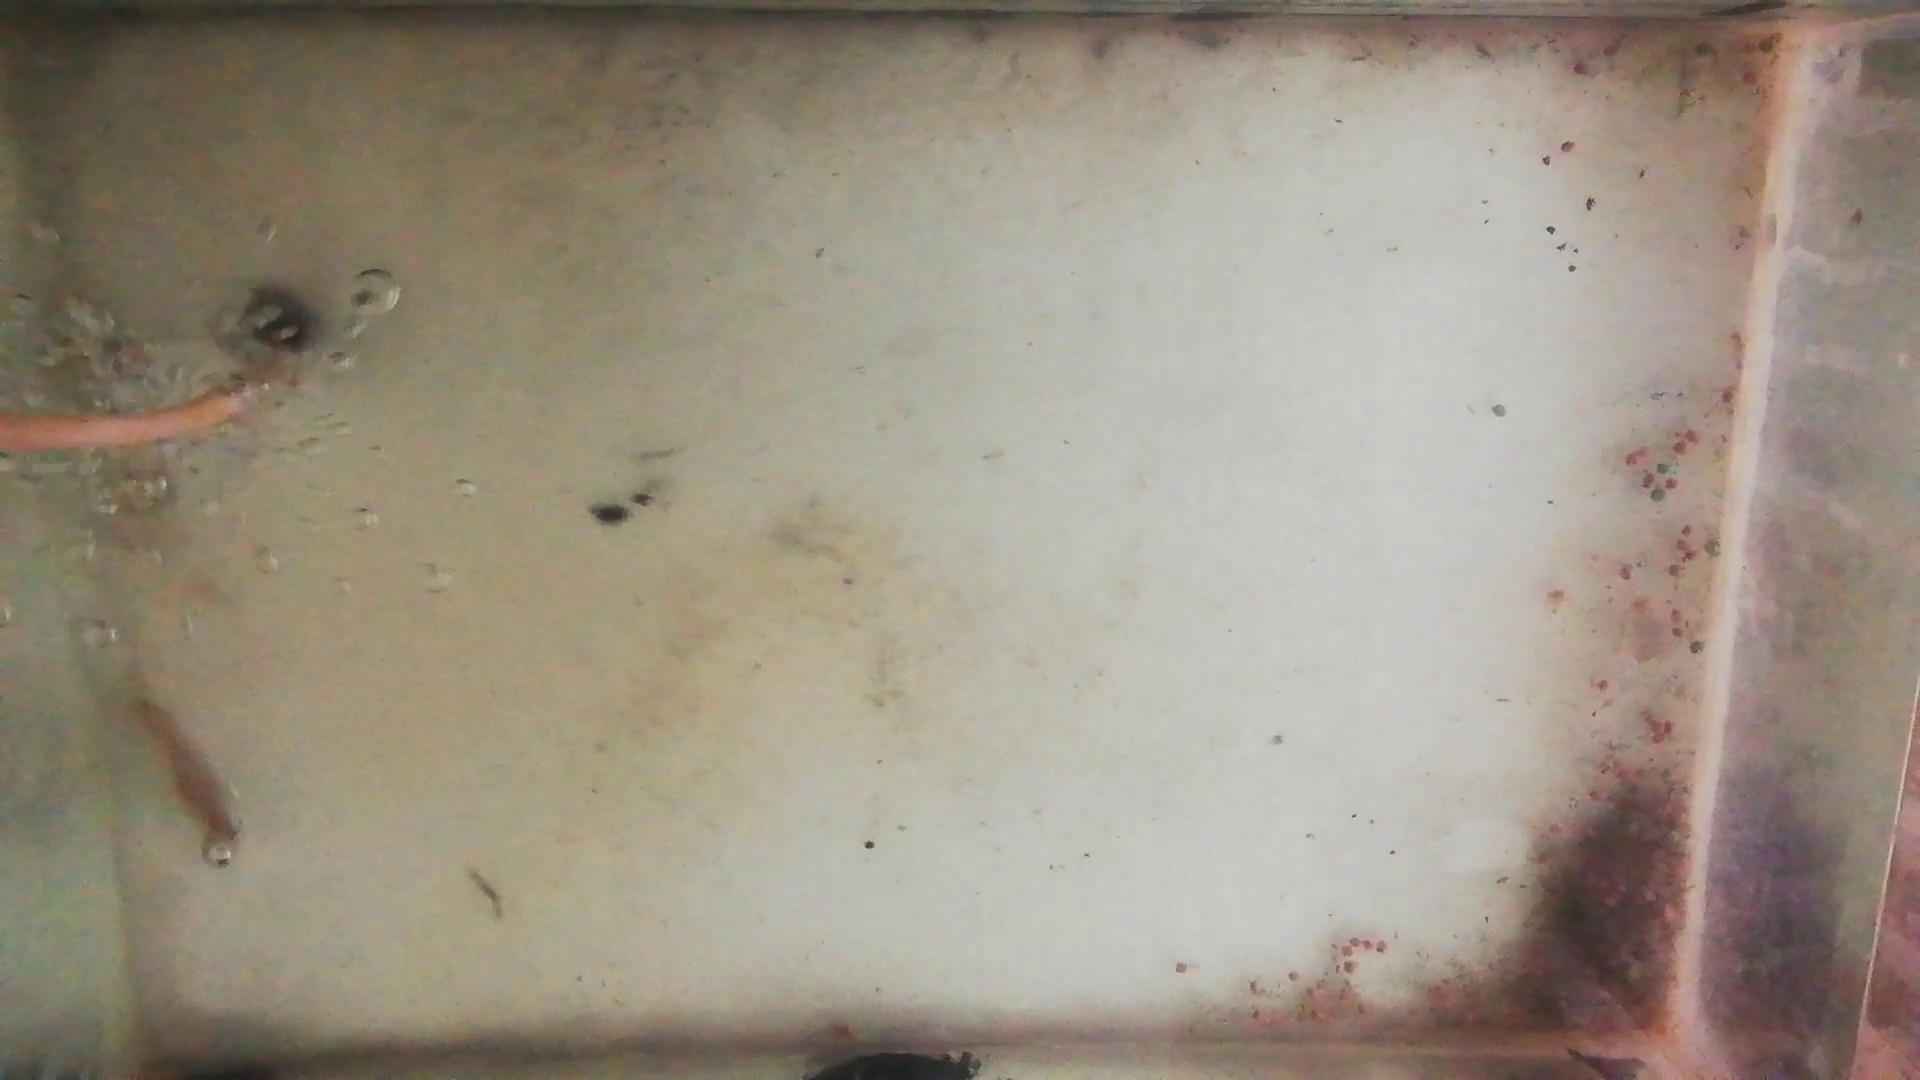fish: (121, 688, 251, 860), (80, 313, 171, 492)
